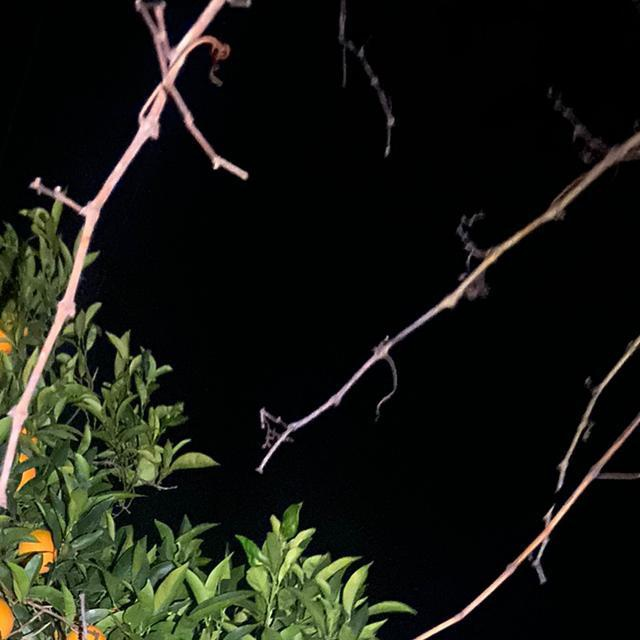orange: (15, 528, 63, 570), (0, 327, 21, 379), (0, 597, 15, 640), (64, 626, 108, 640)
